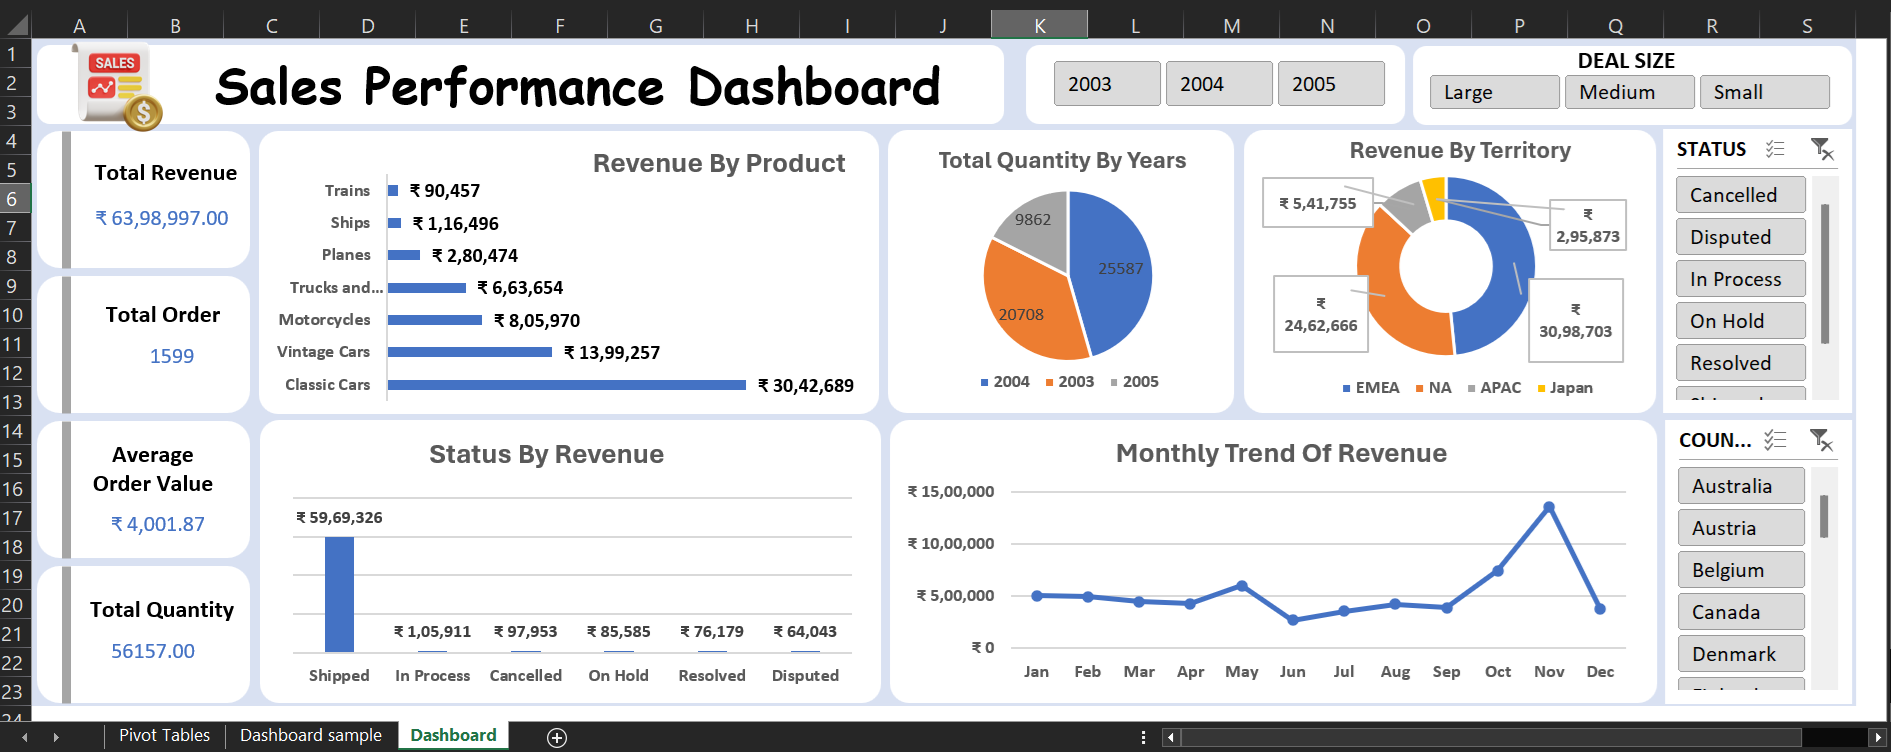

The page's visual inventory and layout, read from the dashboard file:
{"tool":"powerbi","page":{"name":"Business Overview","canvas":[1280,720],"ordinal":0},"visuals":[{"type":"cardVisual","fields":{"Data":["Dashboard sample.TOTAL REVENUE","Dashboard sample.TOTAL ORDER","Dashboard sample.TOTAL QUANTITY","Dashboard sample.AVERAGE ORDER VALUE"]},"box":[0,88.1,1152.2,120.6],"z":0},{"type":"slicer","fields":{"Values":["Dashboard sample.MONTH_NAME"]},"box":[1152.2,102.2,119.4,371.8],"z":1000},{"type":"advancedSlicerVisual","title":"YEAR","fields":{"Values":["Dashboard sample.YEAR_ID"]},"box":[946.6,6.2,325,87.4],"z":2000},{"type":"advancedSlicerVisual","title":"DEAL SIZE","fields":{"Values":["Dashboard sample.DEAL_SIZE"]},"box":[589.7,6.2,343.5,87.4],"z":3000},{"type":"shape","box":[0,3.7,384.1,98.5],"z":4000},{"type":"textbox","box":[126.7,10.9,244.9,77.2],"z":5000},{"type":"image","box":[24.1,14.5,124.3,77.2],"z":6000},{"type":"barChart","title":"TOTAL REVENUE by PRODUCT","fields":{"Category":["Dashboard sample.PRODUCT_LINE"],"Y":["Dashboard sample.TOTAL REVENUE"]},"box":[7.4,199.4,590.9,274.5],"z":7000},{"type":"funnel","fields":{"Category":["Dashboard sample.STATUS"],"Y":["Dashboard sample.TOTAL REVENUE"]},"box":[606.9,199.4,536.7,274.5],"z":8000},{"type":"lineChart","title":"TOTAL REVENUE by MONTH","fields":{"Category":["Dashboard sample.MONTH_NAME"],"Y":["Dashboard sample.TOTAL REVENUE"]},"box":[7.4,482.6,770.6,226.5],"z":9000},{"type":"pieChart","fields":{"Category":["Dashboard sample.TERRITORY"],"Y":["Dashboard sample.TOTAL REVENUE"]},"box":[786.6,482.6,485,226.5],"z":10000},{"type":"pageNavigator","box":[395.2,13.5,181,78.8],"z":11000}]}

Visuals, with their boxes on the page's 1280x720 design canvas (x1, y1, x2, y2). These are canvas units, not pixel positions in the 1891x752 screenshot, which may show the page scaled, cropped or inside an application window:
cardVisual - Dashboard sample.TOTAL REVENUE x Dashboard sample.TOTAL ORDER: <box>0,88,1152,209</box>
slicer - Dashboard sample.MONTH_NAME: <box>1152,102,1272,474</box>
"YEAR" advancedSlicerVisual: <box>947,6,1272,94</box>
"DEAL SIZE" advancedSlicerVisual: <box>590,6,933,94</box>
shape: <box>0,4,384,102</box>
textbox: <box>127,11,372,88</box>
image: <box>24,14,148,92</box>
"TOTAL REVENUE by PRODUCT" barChart: <box>7,199,598,474</box>
funnel - Dashboard sample.STATUS x Dashboard sample.TOTAL REVENUE: <box>607,199,1144,474</box>
"TOTAL REVENUE by MONTH" lineChart: <box>7,483,778,709</box>
pieChart - Dashboard sample.TERRITORY x Dashboard sample.TOTAL REVENUE: <box>787,483,1272,709</box>
pageNavigator: <box>395,14,576,92</box>
